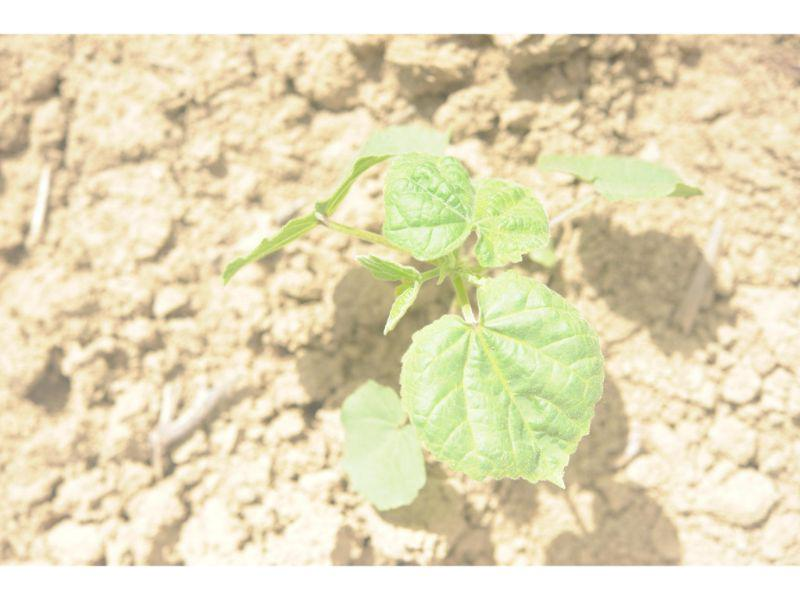velvet: (220, 122, 703, 510)
